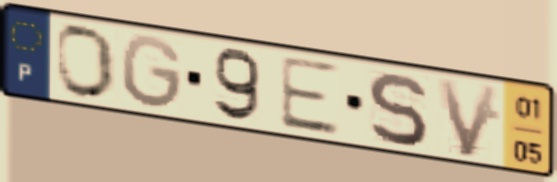9: (211, 47, 265, 124)
E: (276, 52, 343, 138)
G: (118, 32, 186, 113)
O: (53, 22, 119, 102)
S: (363, 69, 431, 149)
V: (432, 75, 504, 161)
